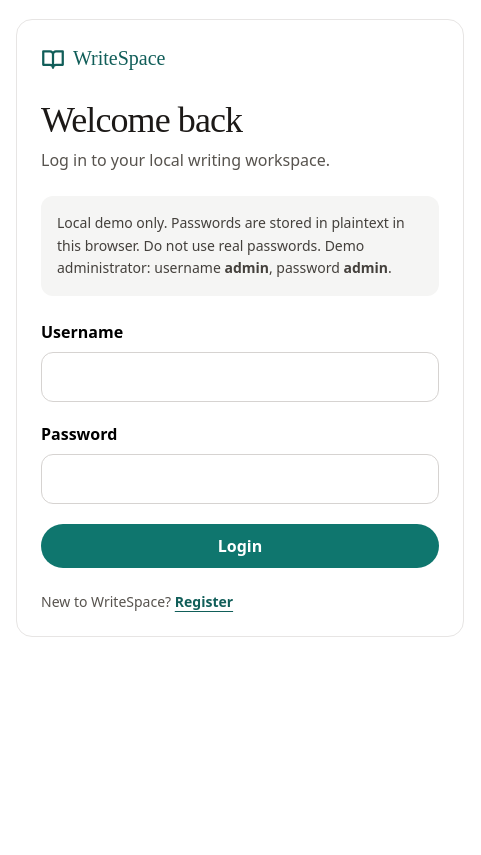
Scenario: identity forms and destinations › navigates between identity forms using their actual links
This screenshot has width=481, height=855.
Click the link "Register" at (204, 602), box x1=175 y1=592 x2=233 y2=611
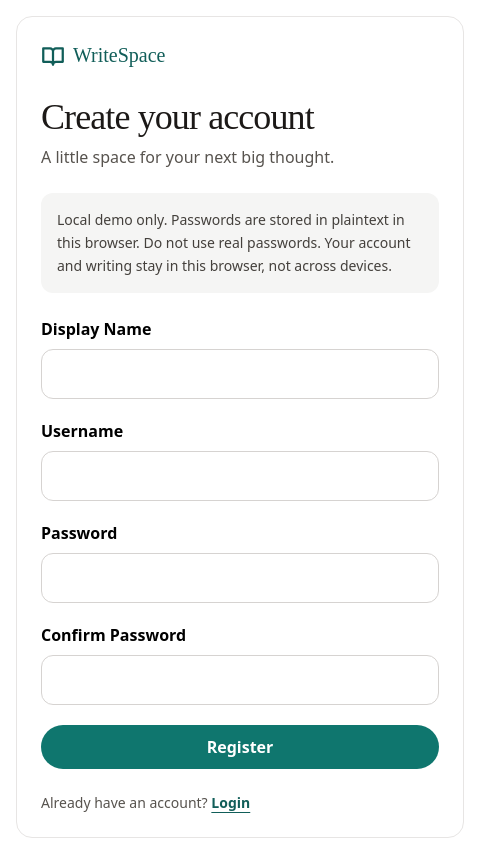
Expected: the heading "Create your account" is shown, x1=41 y1=97 x2=314 y2=137
Click the link "Login" at (231, 803), box x1=211 y1=793 x2=250 y2=812
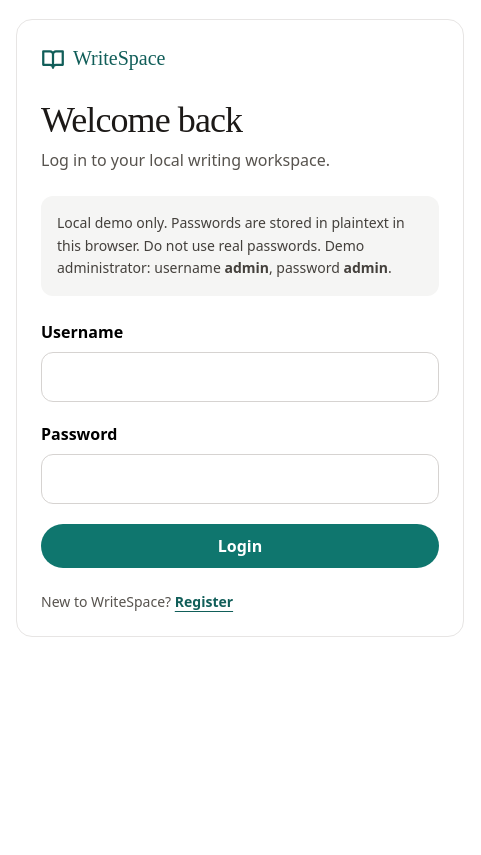
Expected: the heading "Welcome back" is shown, x1=41 y1=100 x2=242 y2=140
